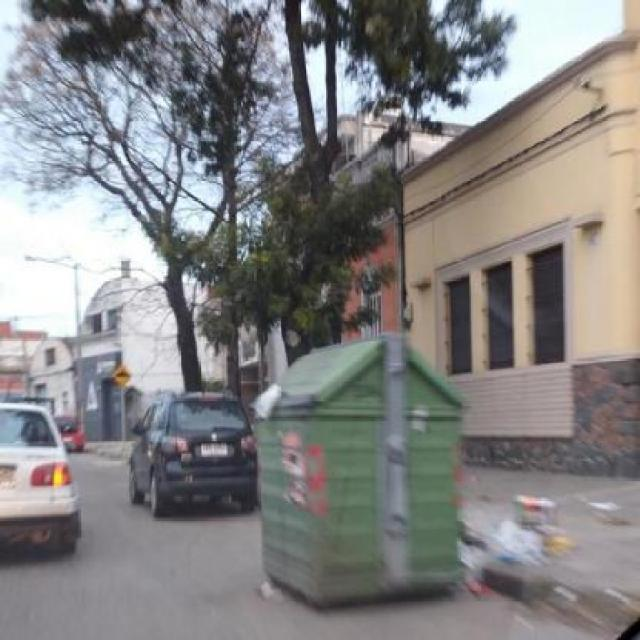garbage: (453, 459, 629, 593)
